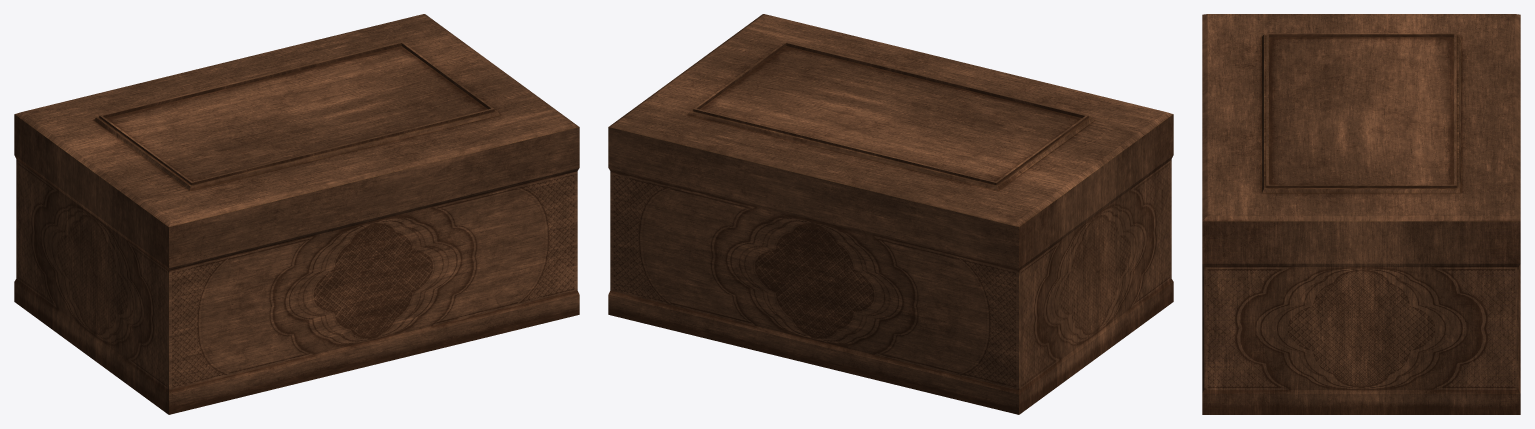
File: jewelbox_lowpoly copy.obj
3 views of the same model, side by side, from view 1: azimuth 30°, elevation 25°; view 2: azimuth 150°, elevation 25°; view 3: azimuth 270°, elevation 25° (orthographic). The views are drawn at different scales.
Visible parts, largest first — view 1: jewelbox_lowpoly001; view 2: jewelbox_lowpoly001; view 3: jewelbox_lowpoly001.
Part boxes in pixels (x1=…): jewelbox_lowpoly001: x1=14, y1=14, x2=579, y2=414; jewelbox_lowpoly001: x1=608, y1=14, x2=1173, y2=414; jewelbox_lowpoly001: x1=1202, y1=14, x2=1520, y2=414.
Size of the model in its own units: 5.76 by 2.63 by 3.75.
1 material, 1 textured.
